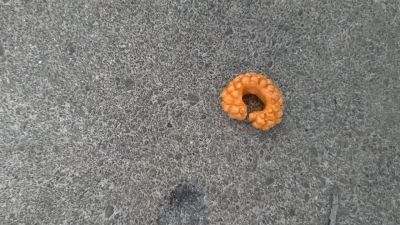eggs: (218, 71, 287, 134)
